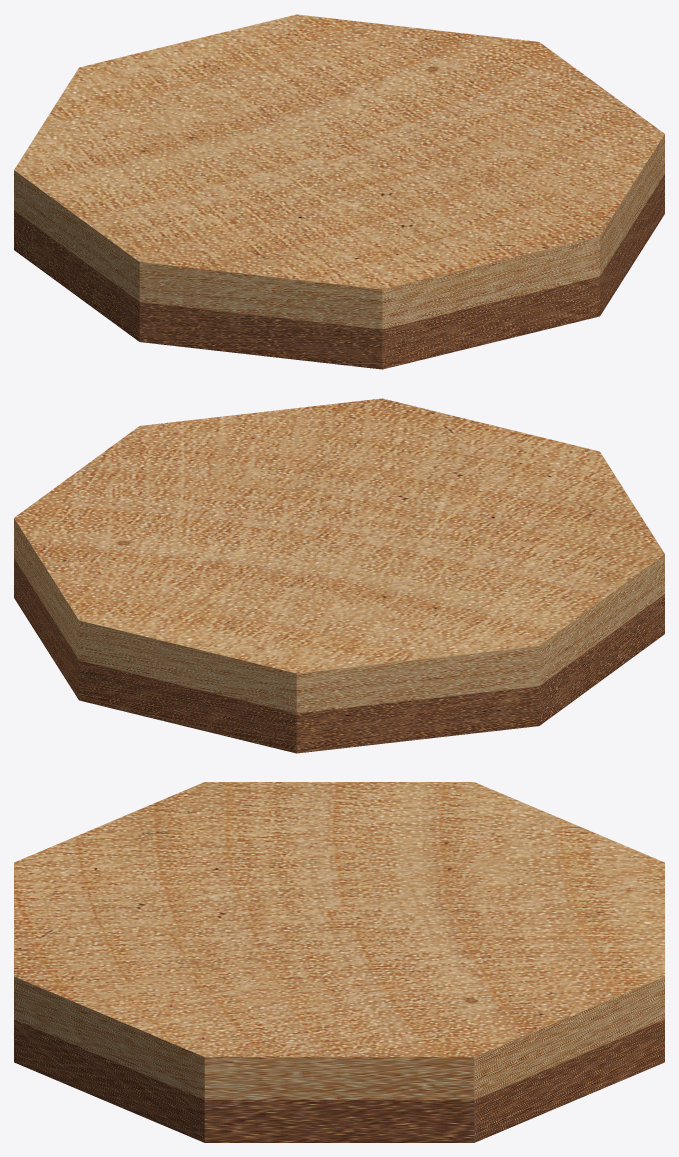
File: OctogonLowPoly.FBX
3 views of the same model, one above another, from view 1: azimuth 30°, elevation 25°; view 2: azimuth 150°, elevation 25°; view 3: azimuth 270°, elevation 25° (orthographic). The views are drawn at different scales.
Parts seen in each view (by area): view 1: OctogonLowPoly; view 2: OctogonLowPoly; view 3: OctogonLowPoly.
Part boxes in pixels (left/top/right/bottom): OctogonLowPoly: left=14, top=14, right=664, bottom=369; OctogonLowPoly: left=14, top=398, right=664, bottom=753; OctogonLowPoly: left=14, top=782, right=664, bottom=1142.
Size of the model in its own units: 24.15 by 3.51 by 24.15.
